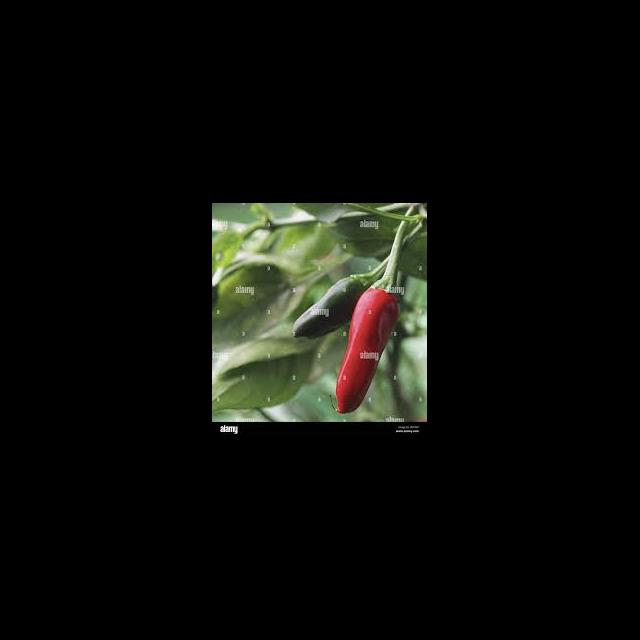chili_pepper: (294, 255, 392, 337), (336, 290, 400, 414)
